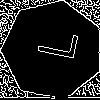L: (27, 25, 79, 62)
